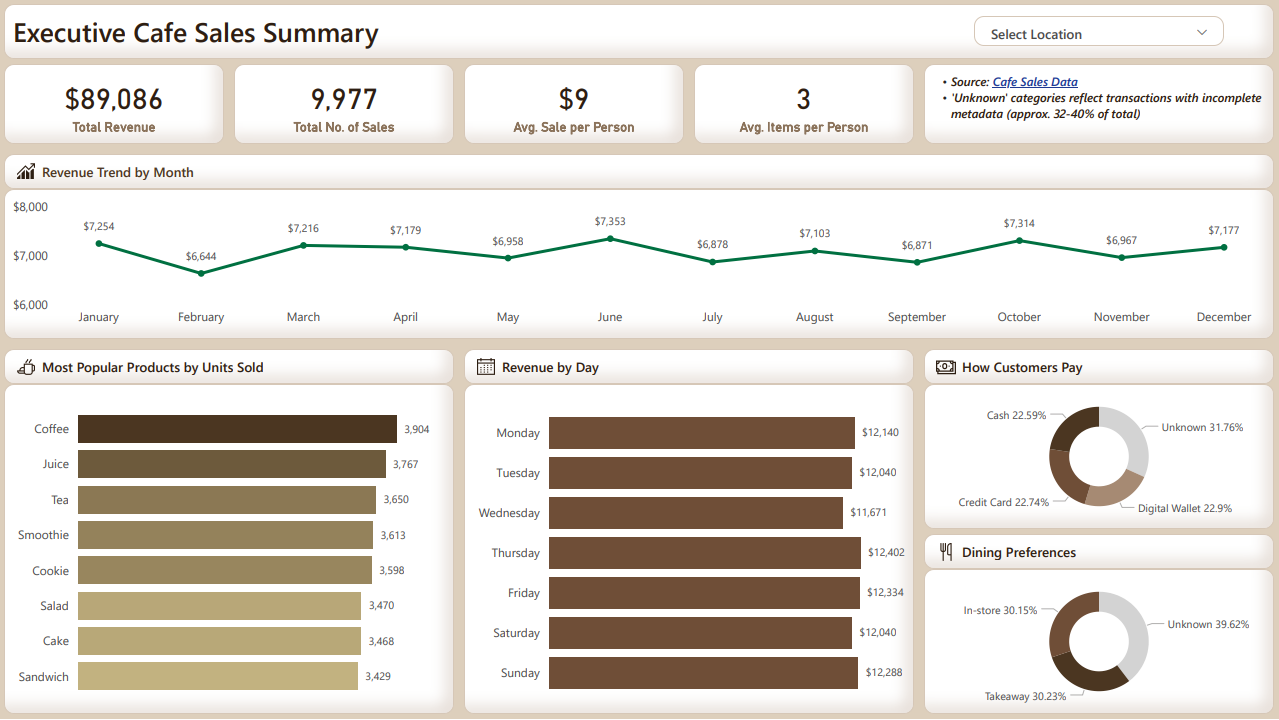

What the dashboard file says about the page in this screenshot:
{"tool":"powerbi","page":{"name":"Dashboard","canvas":[1280,720],"ordinal":0},"visuals":[{"type":"card","fields":{"Values":["Sum(clean_cafe_sales.Total Spent)"]},"box":[5,65,220,80],"z":0},{"type":"card","fields":{"Values":["clean_cafe_sales.Total Sales"]},"box":[235,65,220,80],"z":1000},{"type":"card","fields":{"Values":["clean_cafe_sales.Avg. Sale per Person"]},"box":[465,65,220,80],"z":2000},{"type":"card","fields":{"Values":["clean_cafe_sales.Avg. Items per Person"]},"box":[695,65,220,80],"z":3000},{"type":"lineChart","title":"Monthly Revenue Performance","fields":{"Category":["clean_cafe_sales.Transaction Date.Variation.Date Hierarchy.Month"],"Y":["Sum(clean_cafe_sales.Total Spent)"]},"box":[5,190,1270,150],"z":4000},{"type":"clusteredBarChart","title":"Top Selling Items by Units Sold","fields":{"Category":["clean_cafe_sales.Item"],"Y":["Sum(clean_cafe_sales.Quantity)"]},"box":[5,385,450,330],"z":5000},{"type":"donutChart","fields":{"Y":["CountNonNull(clean_cafe_sales.Payment Method)"],"Category":["clean_cafe_sales.Payment Method"]},"box":[925,385.2,350.2,145],"z":6000},{"type":"donutChart","fields":{"Category":["clean_cafe_sales.Location"],"Y":["CountNonNull(clean_cafe_sales.Location)"]},"box":[925,570,350.2,144.9],"z":7000},{"type":"textbox","box":[5,5,1270,55],"z":8000},{"type":"clusteredBarChart","fields":{"Category":["clean_cafe_sales.Day Name"],"Y":["Sum(clean_cafe_sales.Total Spent)"]},"box":[465,385,450,330],"z":9000},{"type":"textbox","box":[5,155,1270,35],"z":10000},{"type":"textbox","box":[5,350,450,35],"z":11000},{"type":"textbox","box":[465,350,450,35],"z":12000},{"type":"textbox","box":[925,350.2,350.2,35],"z":13000},{"type":"textbox","box":[925,535,350.2,35],"z":14000},{"type":"textbox","box":[925,65,350,80],"z":15000},{"type":"slicer","fields":{"Values":["clean_cafe_sales.Location"]},"box":[975,17,250,30],"z":16000},{"type":"image","box":[18,162,18,18],"z":17000},{"type":"image","box":[18,359,18,18],"z":18000},{"type":"image","box":[478,359,18,18],"z":19000},{"type":"image","box":[937,359,20,20],"z":20000},{"type":"image","box":[937,544,20,18],"z":21000}]}

Visuals, with their boxes in screenshot pixels (x1, y1, x2, y2), scaled from the page's 1280x720 canvas onto the 1279x720 screenshot:
card - Sum(clean_cafe_sales.Total Spent): BBox(5, 65, 225, 145)
card - clean_cafe_sales.Total Sales: BBox(235, 65, 455, 145)
card - clean_cafe_sales.Avg. Sale per Person: BBox(465, 65, 684, 145)
card - clean_cafe_sales.Avg. Items per Person: BBox(694, 65, 914, 145)
"Monthly Revenue Performance" lineChart: BBox(5, 190, 1274, 340)
"Top Selling Items by Units Sold" clusteredBarChart: BBox(5, 385, 455, 715)
donutChart - CountNonNull(clean_cafe_sales.Payment Method) x clean_cafe_sales.Payment Method: BBox(924, 385, 1274, 530)
donutChart - clean_cafe_sales.Location x CountNonNull(clean_cafe_sales.Location): BBox(924, 570, 1274, 715)
textbox: BBox(5, 5, 1274, 60)
clusteredBarChart - clean_cafe_sales.Day Name x Sum(clean_cafe_sales.Total Spent): BBox(465, 385, 914, 715)
textbox: BBox(5, 155, 1274, 190)
textbox: BBox(5, 350, 455, 385)
textbox: BBox(465, 350, 914, 385)
textbox: BBox(924, 350, 1274, 385)
textbox: BBox(924, 535, 1274, 570)
textbox: BBox(924, 65, 1274, 145)
slicer - clean_cafe_sales.Location: BBox(974, 17, 1224, 47)
image: BBox(18, 162, 36, 180)
image: BBox(18, 359, 36, 377)
image: BBox(478, 359, 496, 377)
image: BBox(936, 359, 956, 379)
image: BBox(936, 544, 956, 562)
